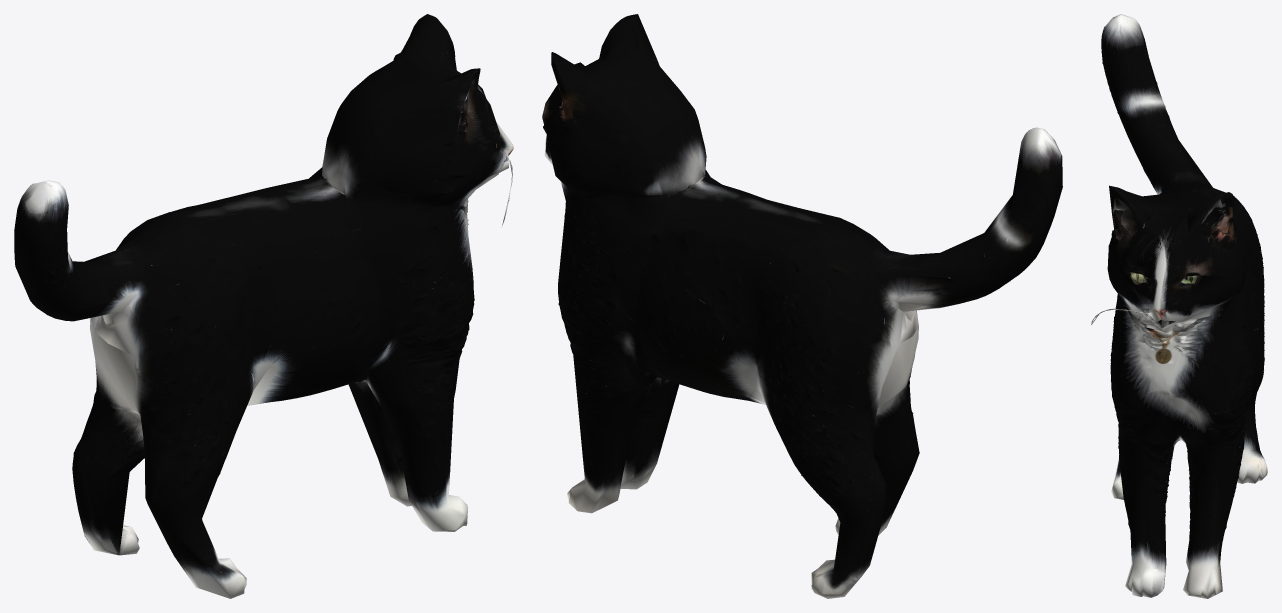
File: SEACAT.glb
The picture shows the model from 3 angles, left to right: view 1: azimuth 30°, elevation 25°; view 2: azimuth 150°, elevation 25°; view 3: azimuth 270°, elevation 25°; orthographic projection. The views are drawn at different scales.
Parts seen in each view (by area): view 1: fit; view 2: fit; view 3: fit.
Part boxes in pixels (x1,y1,x2,y2): fit: (14,14,513,598); fit: (542,14,1062,598); fit: (1091,14,1267,598).
Bounding box in the file's own units: 1.14 × 1 × 0.3877.
1 material, 1 textured.
